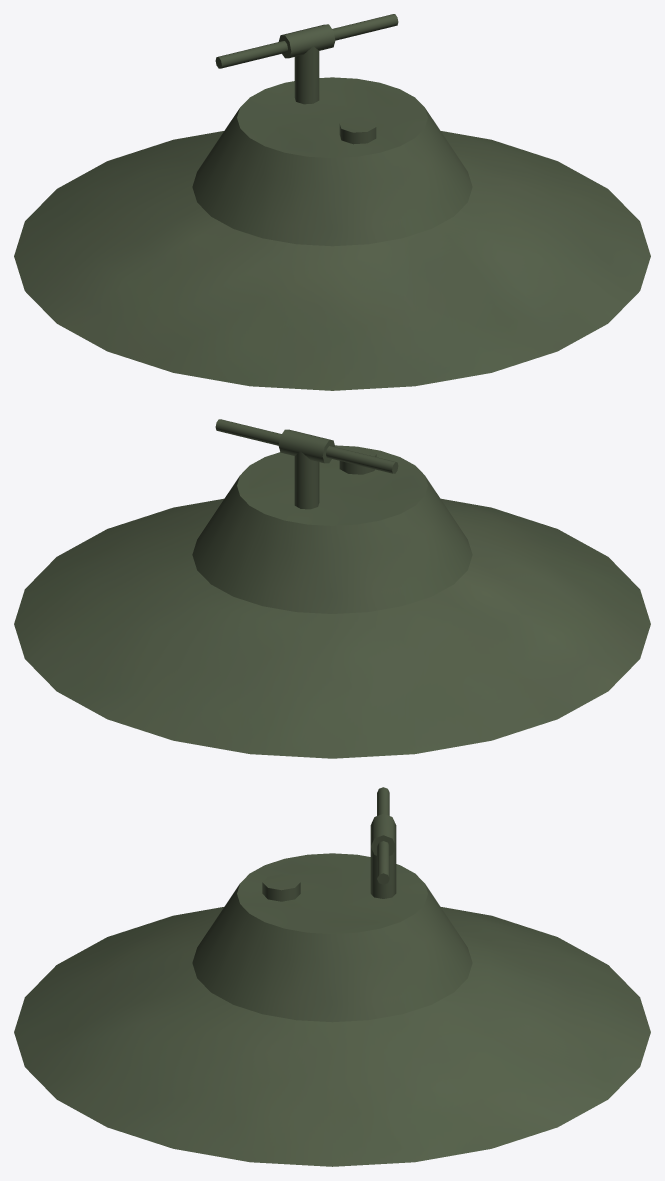
Rendered from parachute.obj.
The picture shows the model from 3 angles, top to bottom: view 1: azimuth 30°, elevation 25°; view 2: azimuth 150°, elevation 25°; view 3: azimuth 270°, elevation 25°; orthographic projection.
Visible parts, largest first — view 1: 1, cap; view 2: 1, cap; view 3: 1, cap.
Boxes of the visible parts, box(x1,y1,x2,y2) form: 1: box(14, 77, 650, 390); cap: box(215, 14, 398, 144); 1: box(14, 445, 650, 758); cap: box(215, 419, 398, 509); 1: box(14, 853, 650, 1166); cap: box(262, 787, 396, 901).
Bounding box in the file's own units: 0.625 × 0.225 × 0.625.
